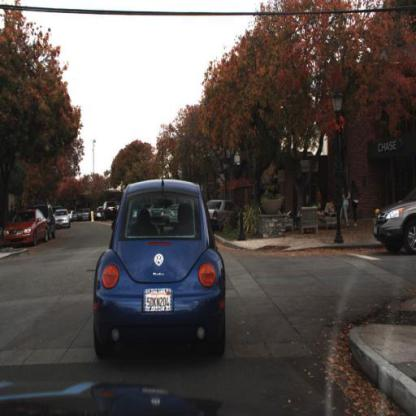car: (83, 169, 237, 381), (375, 195, 416, 254), (4, 208, 49, 248), (208, 197, 240, 231), (42, 204, 56, 243), (101, 201, 119, 226), (54, 209, 72, 233)
pedestrian: (343, 179, 352, 236), (351, 178, 361, 228), (316, 199, 337, 221), (315, 186, 323, 204)
